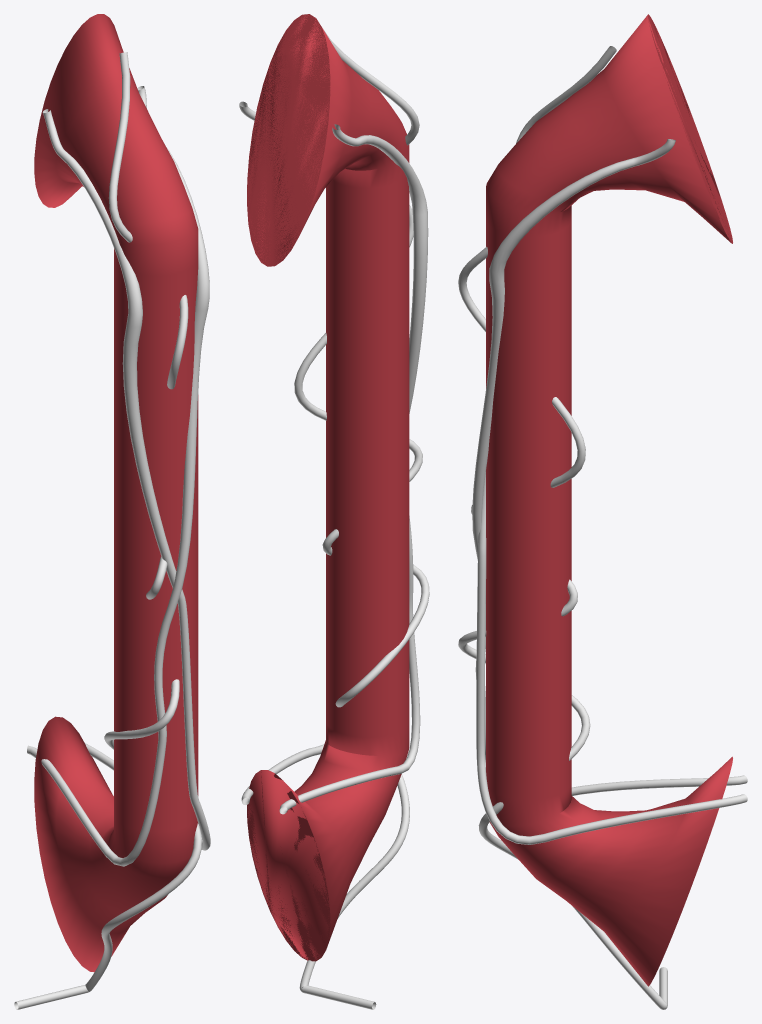
The model's file is pipe.fbx.
3 renders of one model, left to right at view 1: azimuth 30°, elevation 25°; view 2: azimuth 150°, elevation 25°; view 3: azimuth 270°, elevation 25°, orthographic. The views are drawn at different scales.
Visible parts, largest first — view 1: Cylinder, BezierCurve, BezierCurve.001, NurbsPath; view 2: Cylinder, NurbsPath, BezierCurve, BezierCurve.001; view 3: Cylinder, BezierCurve.001, NurbsPath, BezierCurve.
Part boxes in pixels (x1,y1,x2,y2): Cylinder: (34, 14, 198, 972); BezierCurve: (42, 109, 210, 850); BezierCurve.001: (27, 86, 209, 866); NurbsPath: (14, 52, 201, 1009); Cylinder: (247, 14, 409, 961); NurbsPath: (294, 27, 429, 1009); BezierCurve: (241, 124, 428, 804); BezierCurve.001: (239, 101, 420, 814); Cylinder: (486, 14, 732, 986); BezierCurve.001: (472, 139, 747, 795); NurbsPath: (458, 46, 667, 1009); BezierCurve: (476, 472, 747, 844).
Size of the model in its own units: 361 by 2566 by 676.
